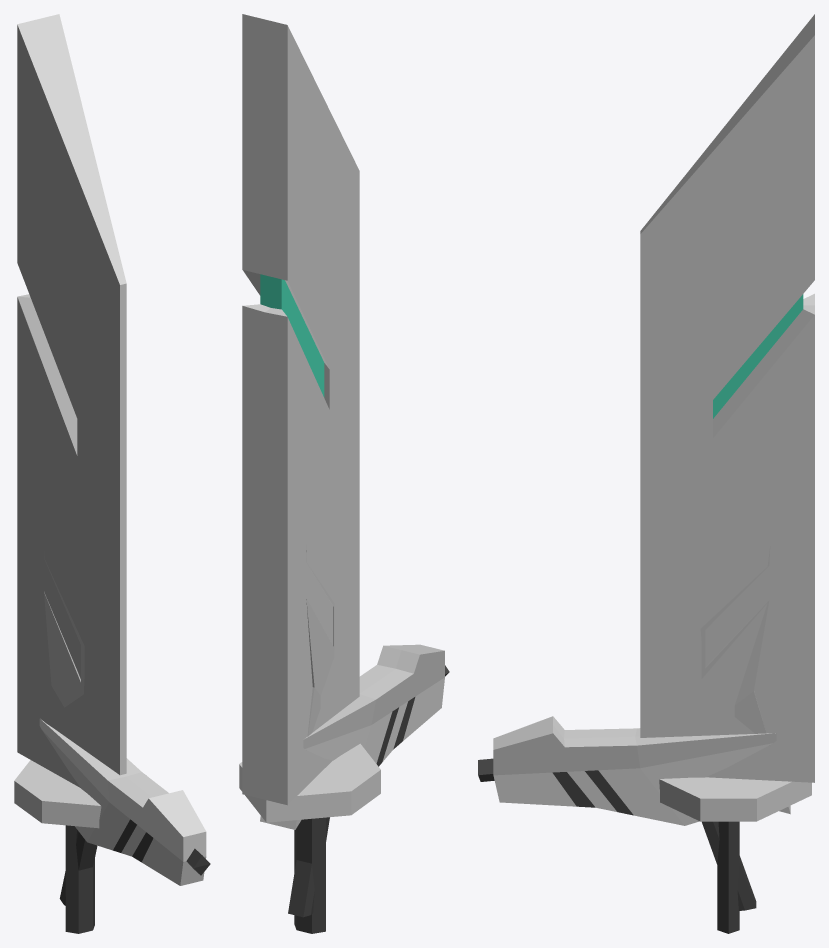
File: weapons.glb
3 renders of one model, left to right at view 1: azimuth 30°, elevation 25°; view 2: azimuth 150°, elevation 25°; view 3: azimuth 270°, elevation 25°, orthographic. The views are drawn at different scales.
Visible parts, largest first — view 1: Sword, Gun, Dagger; view 2: Sword, Gun, Dagger; view 3: Sword, Gun, Dagger.
Boxes of the visible parts, bbox=[...] form: Sword: bbox=[14, 14, 146, 933]; Gun: bbox=[39, 719, 210, 905]; Dagger: bbox=[43, 537, 84, 733]; Sword: bbox=[239, 14, 380, 933]; Gun: bbox=[288, 644, 449, 917]; Dagger: bbox=[260, 544, 334, 829]; Sword: bbox=[640, 14, 814, 933]; Gun: bbox=[478, 716, 776, 910]; Dagger: bbox=[700, 546, 790, 814].
Bounding box in the file's own units: 0.9175 × 7.36 × 2.49.
